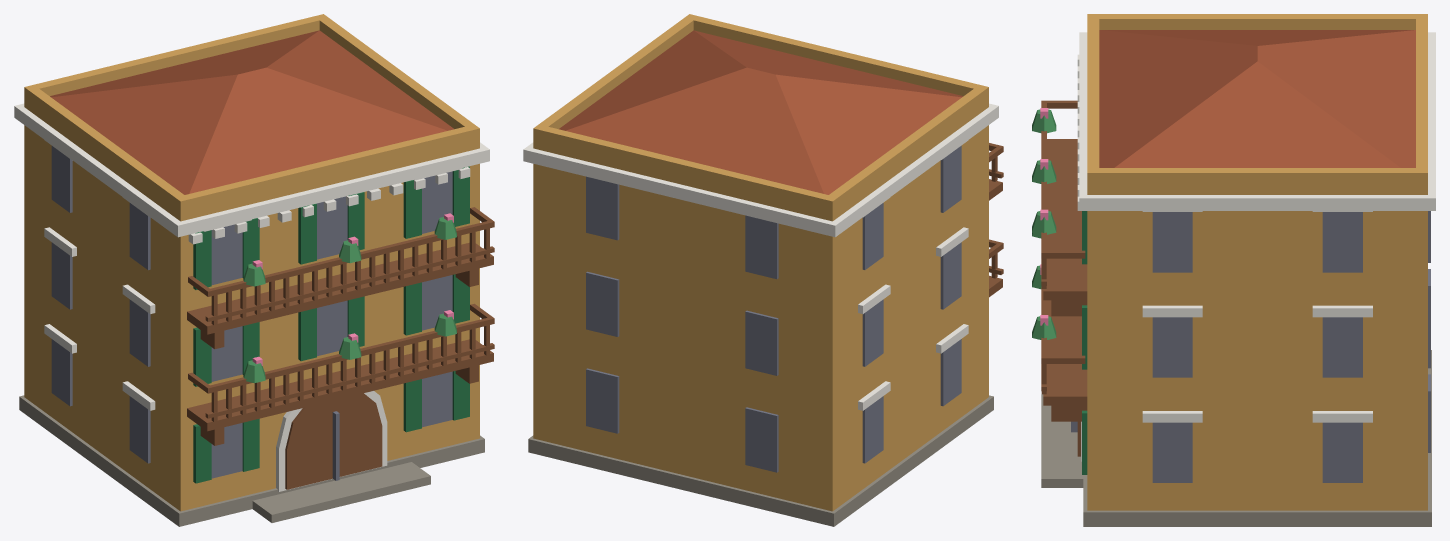
Rendered from house-1x1-3f-colonial-a.glb.
The picture shows the model from 3 angles, left to right: view 1: azimuth 30°, elevation 25°; view 2: azimuth 150°, elevation 25°; view 3: azimuth 270°, elevation 25°; orthographic projection. The views are drawn at different scales.
Visible parts, largest first — view 1: house-1x1-3f-colonial-a; view 2: house-1x1-3f-colonial-a; view 3: house-1x1-3f-colonial-a.
Part boxes in pixels (x1=…): house-1x1-3f-colonial-a: x1=14, y1=14, x2=494, y2=526; house-1x1-3f-colonial-a: x1=523, y1=14, x2=1003, y2=526; house-1x1-3f-colonial-a: x1=1032, y1=14, x2=1435, y2=526.
Bounding box in the file's own units: 0.98 × 1.08 × 1.01.
1 material, 1 textured.
